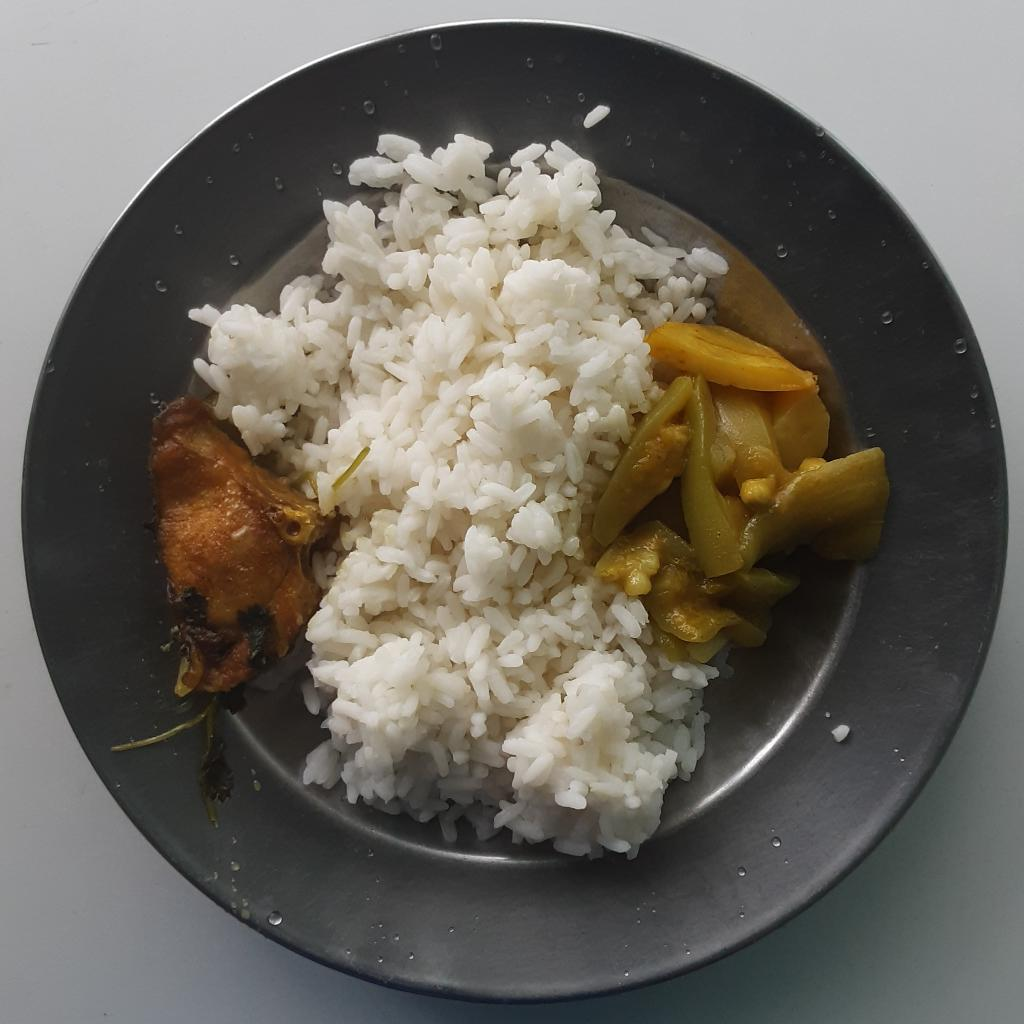fish: (152, 402, 320, 805)
potato: (648, 327, 814, 388)
potol: (590, 375, 891, 646)
rice: (186, 130, 731, 860)
